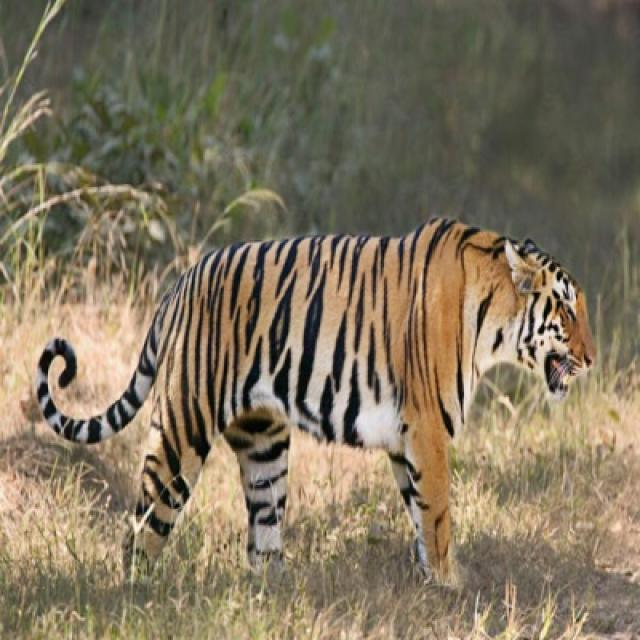Tiger: (49, 215, 596, 577)
